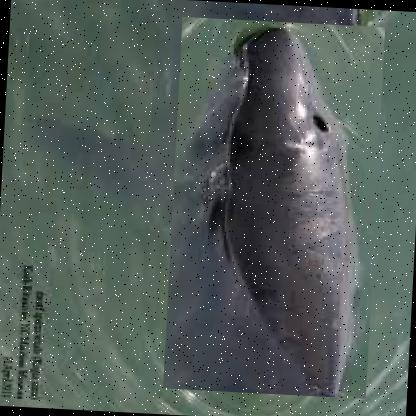sperm_whale: (162, 16, 384, 398)
